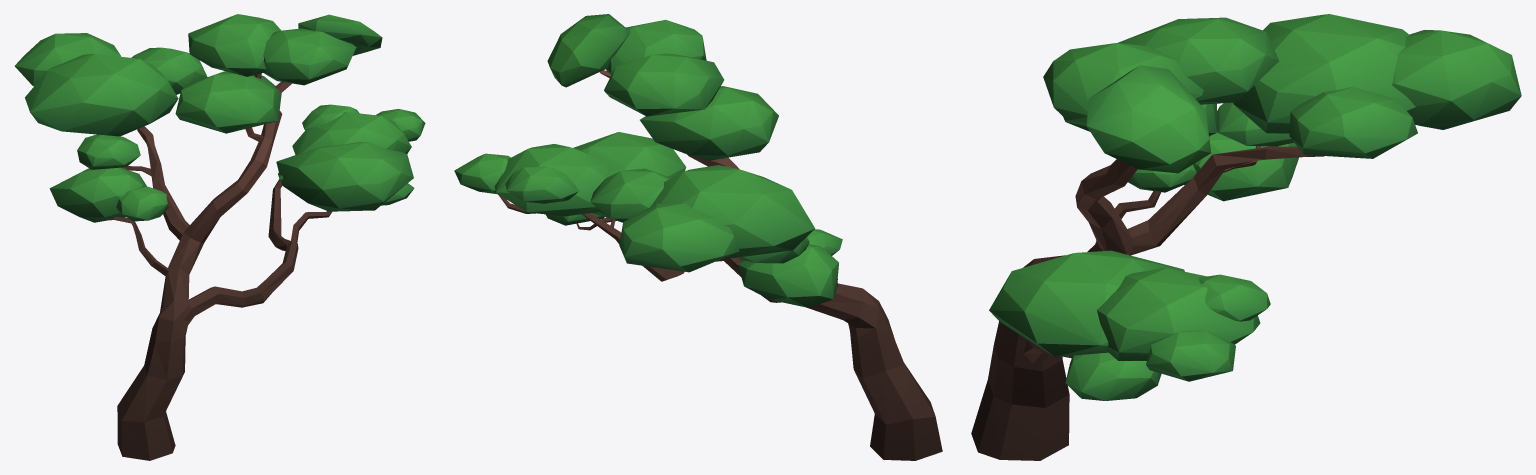
The model's file is ZLP_Plant_C_5.FBX.
3 views of the same model, side by side, from view 1: azimuth 30°, elevation 25°; view 2: azimuth 150°, elevation 25°; view 3: azimuth 270°, elevation 25° (orthographic). The views are drawn at different scales.
Visible parts, largest first — view 1: ZLP_Plant_C_5; view 2: ZLP_Plant_C_5; view 3: ZLP_Plant_C_5.
Part boxes in pixels (left/top/right/bottom): ZLP_Plant_C_5: left=15, top=14, right=425, bottom=460; ZLP_Plant_C_5: left=454, top=14, right=942, bottom=460; ZLP_Plant_C_5: left=971, top=14, right=1521, bottom=460.
Size of the model in its own units: 447 by 411 by 383.
